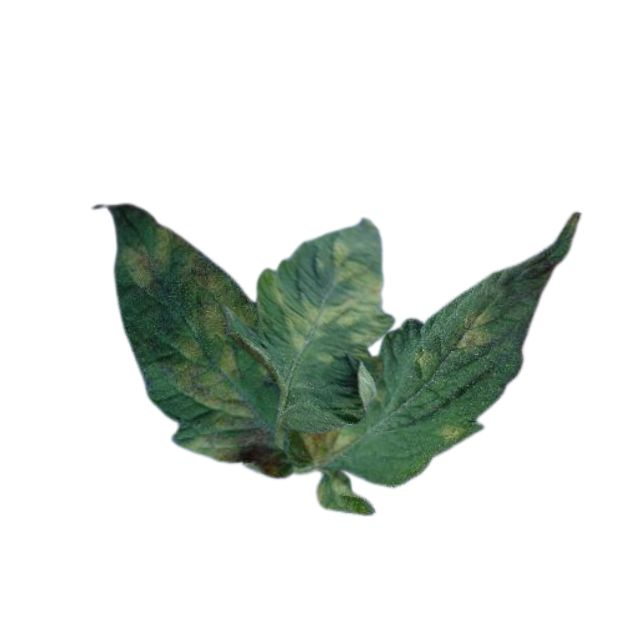Leaf_Mold: (126, 228, 284, 478), (285, 244, 384, 363), (447, 307, 496, 350), (302, 426, 354, 465), (435, 419, 463, 440)
